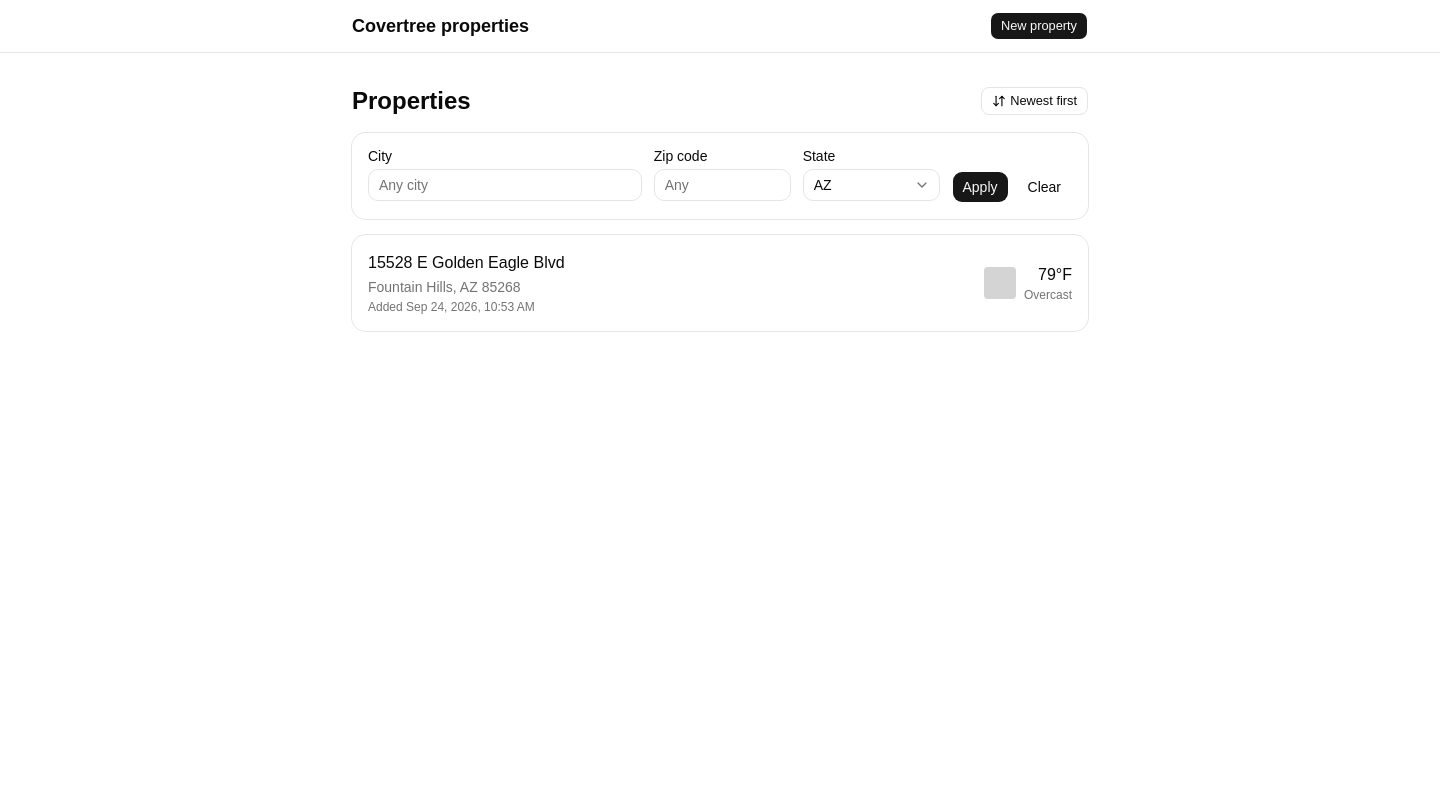
Test: delete property › S6.6 returns to the filtered list the property was opened from
Click the link "15528 E Golden Eagle Blvd": (466, 262) top-left (352, 235), bottom-right (1088, 331)
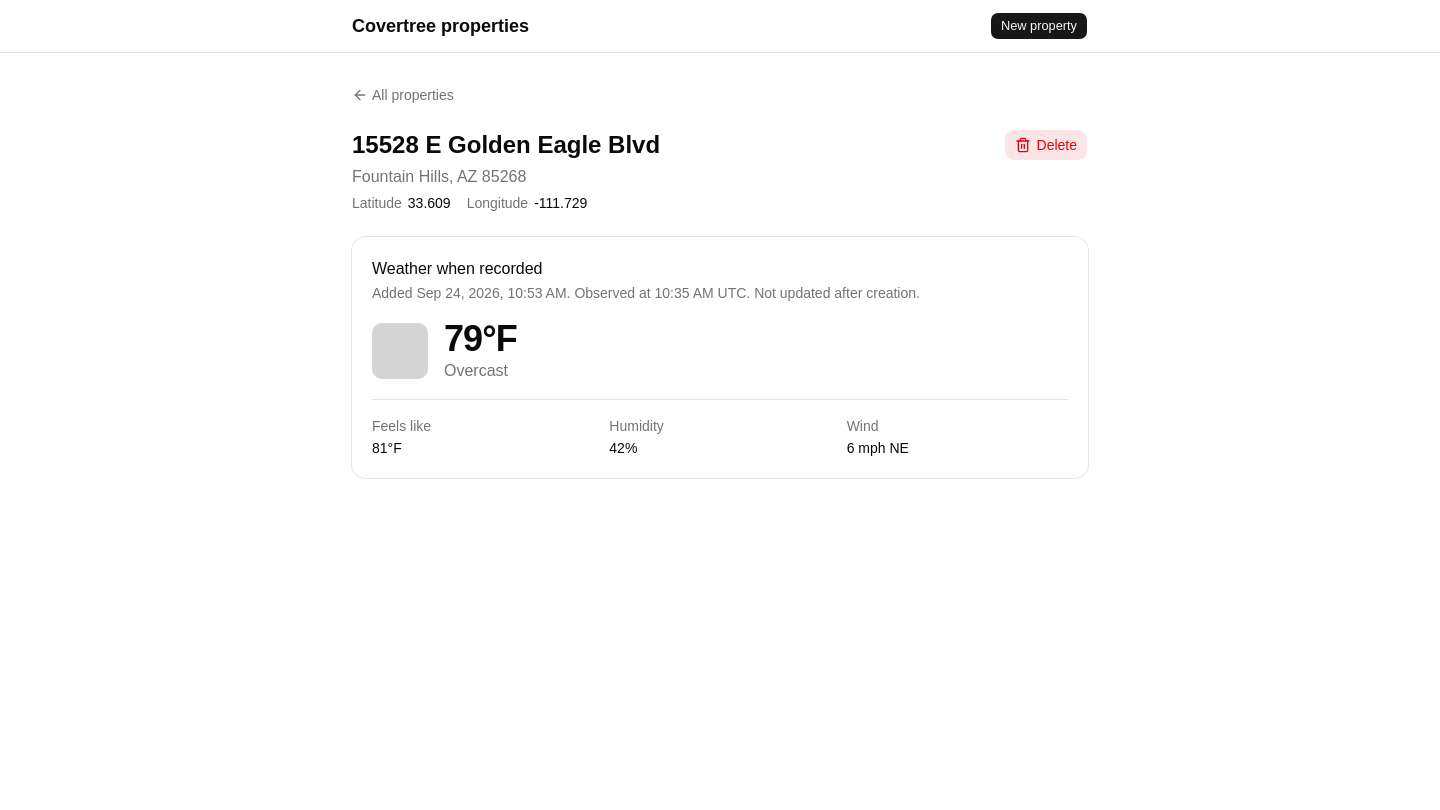
Click the button "Delete": (1046, 145) top-left (1004, 129), bottom-right (1088, 161)
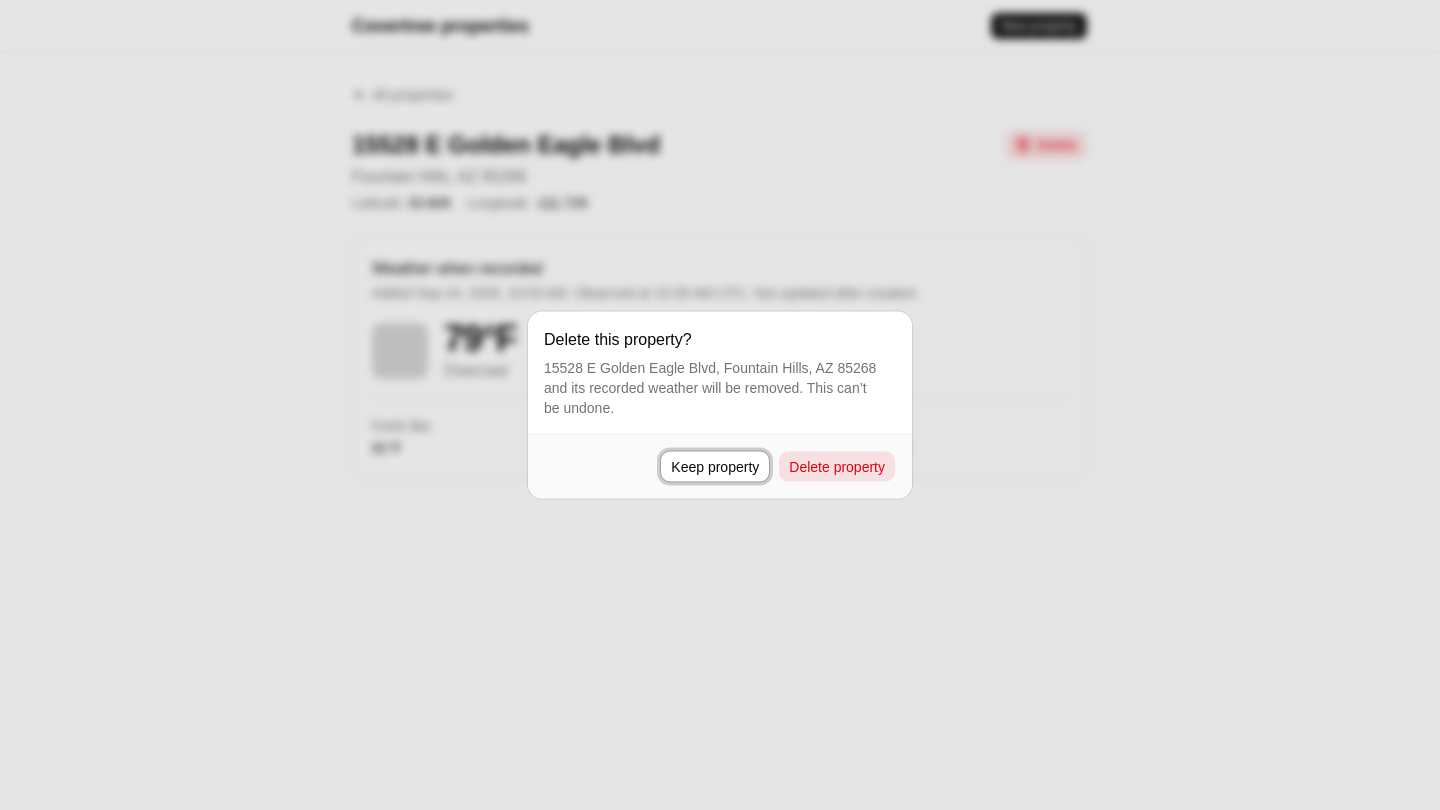
Click the button "Delete property": (837, 466) top-left (778, 450), bottom-right (896, 482)
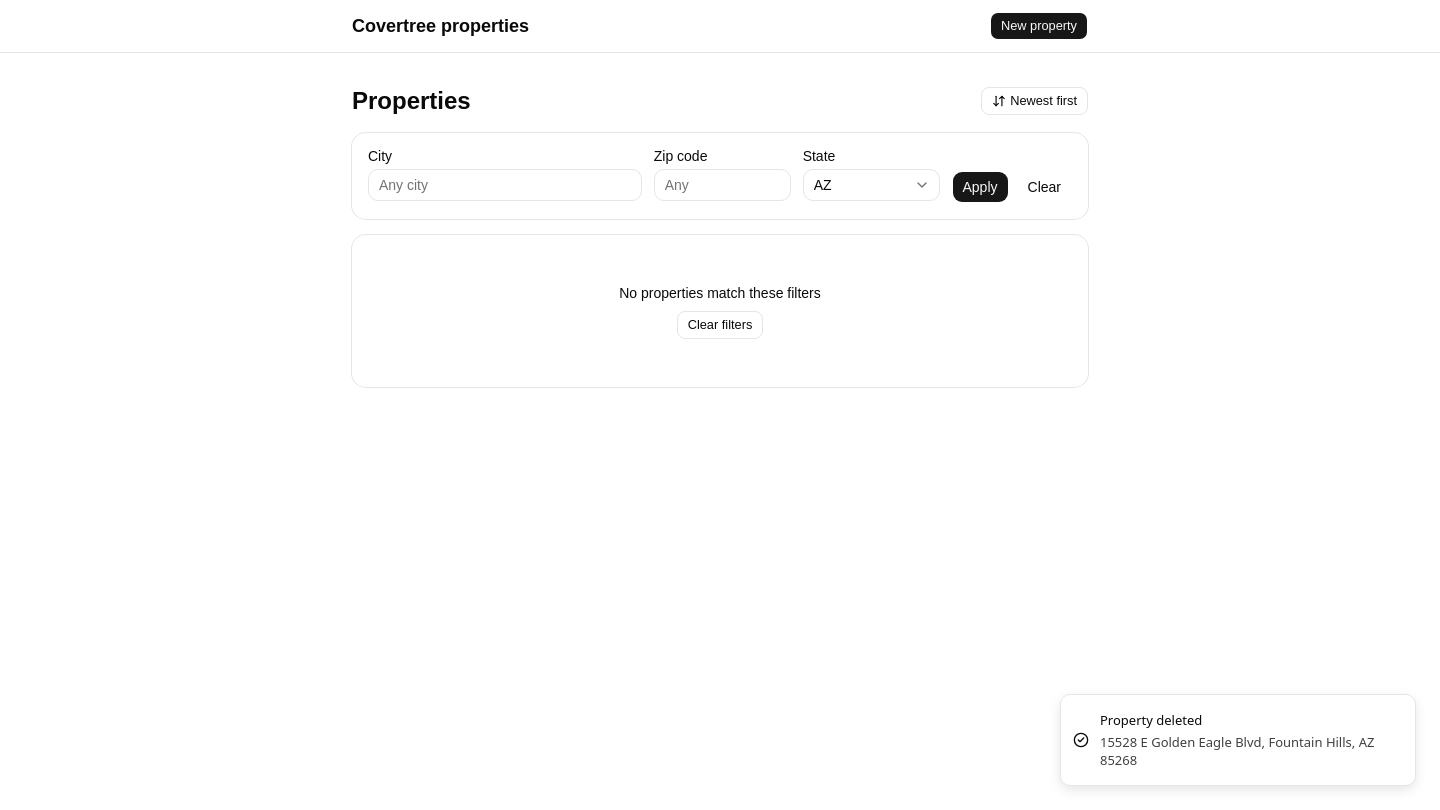
Check: the text "No properties match these filters" is shown, box top-left (619, 283), bottom-right (821, 303)
